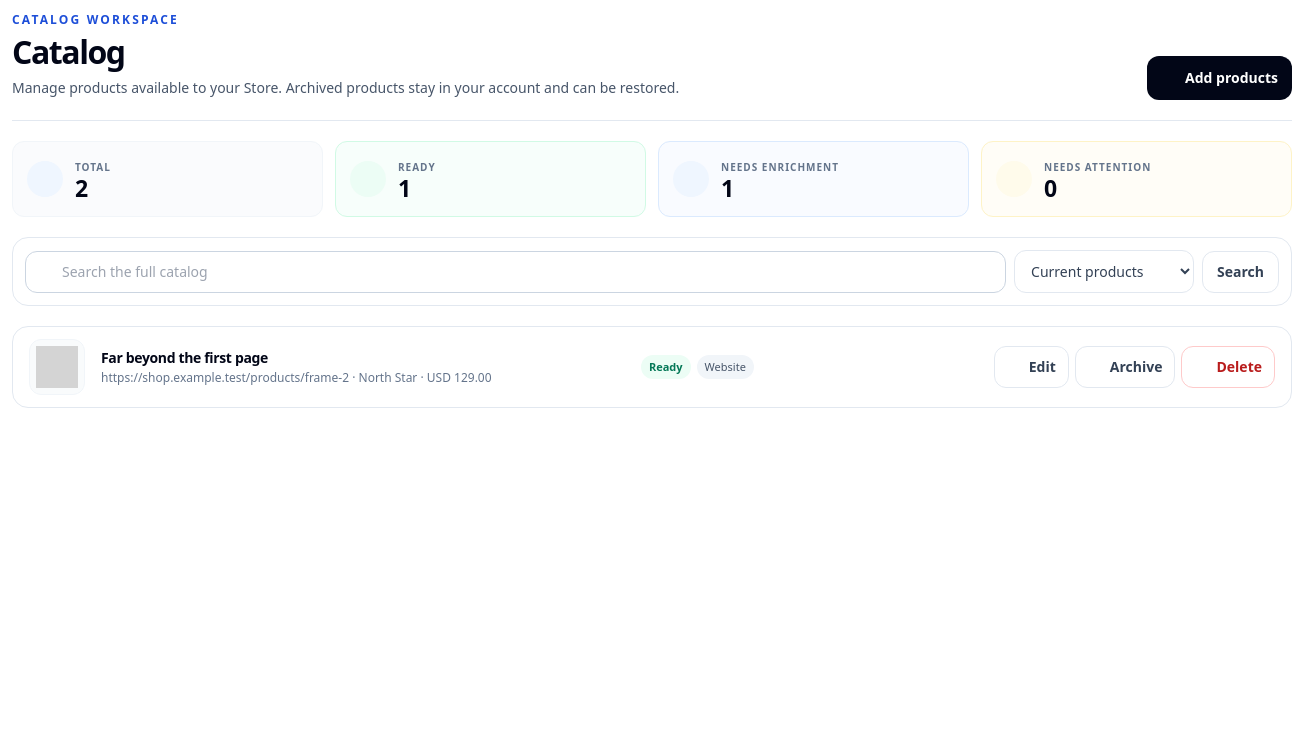
Test: MerchantCatalogWorkspace › archives only after explicit approval and refreshes the active view
The width and height of the screenshot is (1304, 732).
Click the button "Archive" at (1125,367), box [1075,346,1175,388]
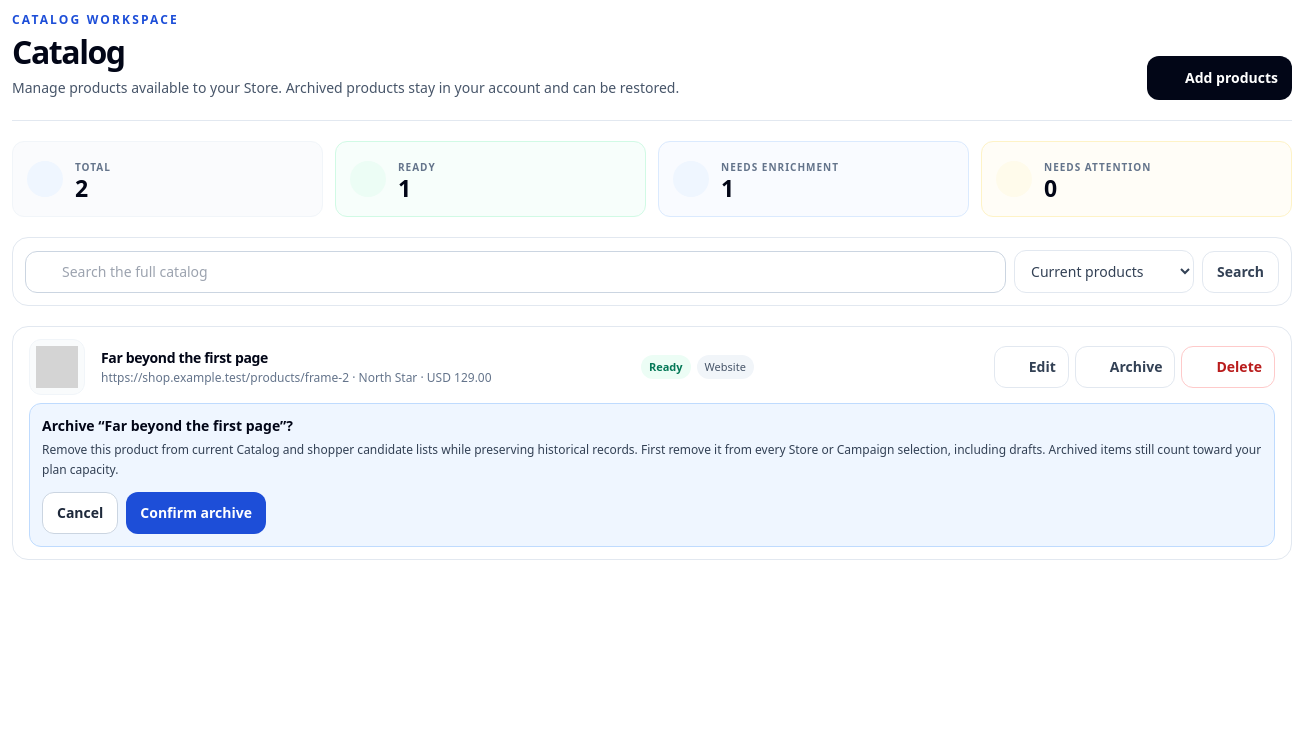
Check: the text "Remove this product from current Catalog" is shown, box [42,441,1261,478]
Click the button "Confirm archive" at (196,513), box [126,492,266,534]
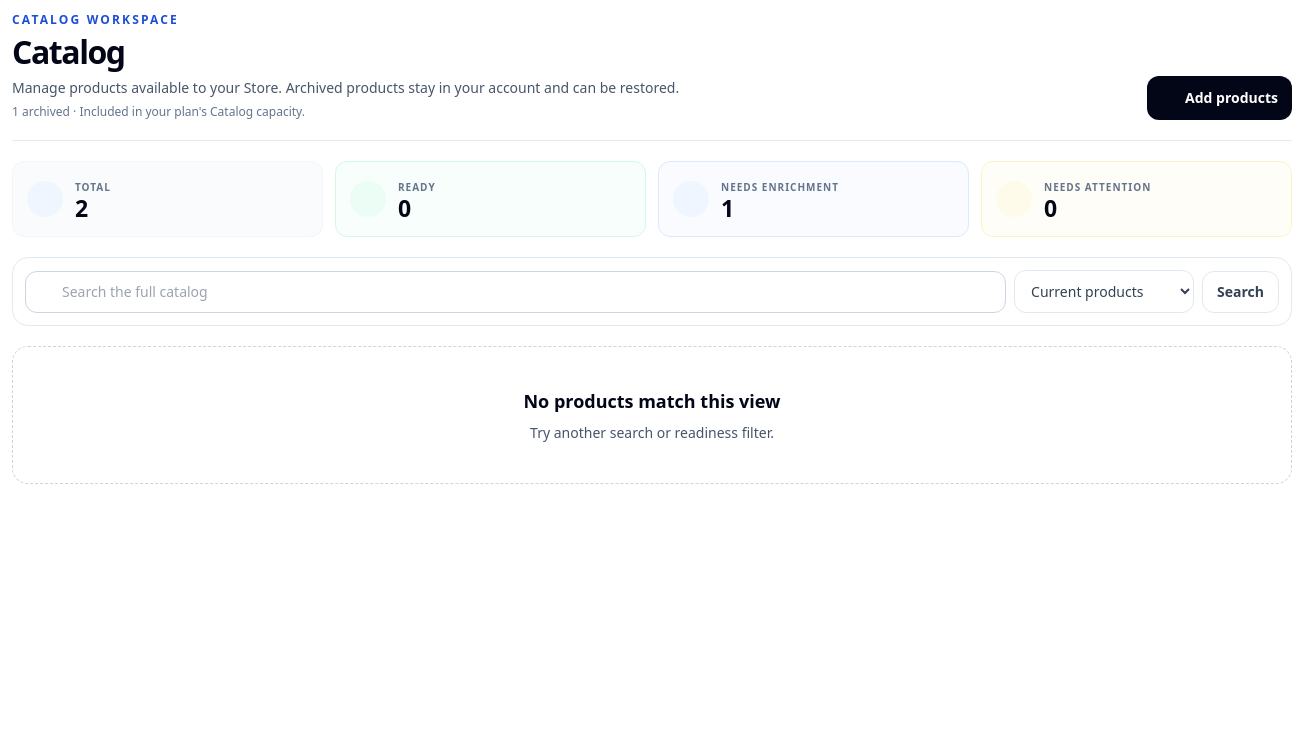
Check: the heading "No products match this view" is shown, box [524,389,780,413]
